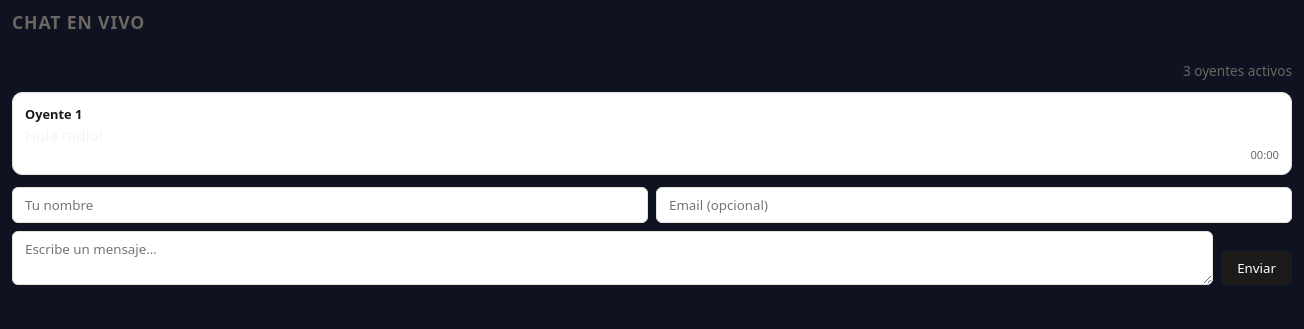
Scenario: ChatSection › no envía un mensaje con campos vacíos
The width and height of the screenshot is (1304, 329).
Click the button "Enviar": point(1257, 268) [1221,251,1292,285]
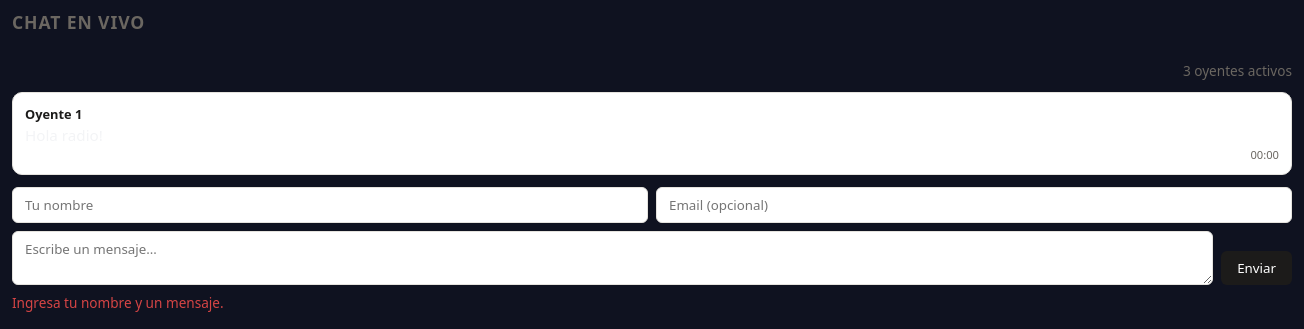
expect the text "Ingresa tu nombre y un mensaje." is shown: met, box [12,293,224,312]
